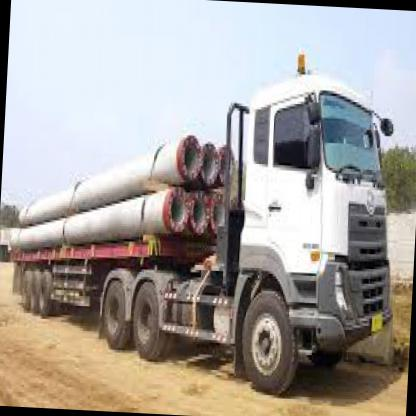truck: (234, 74, 403, 398)
